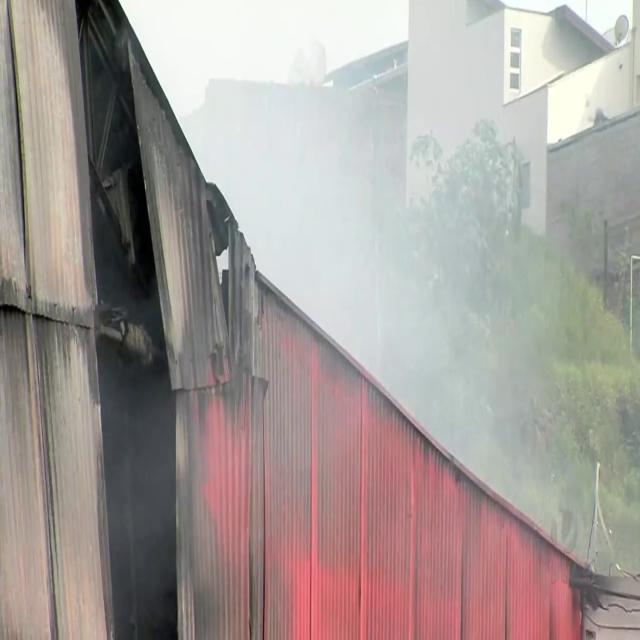Smoke: (181, 20, 595, 542)
